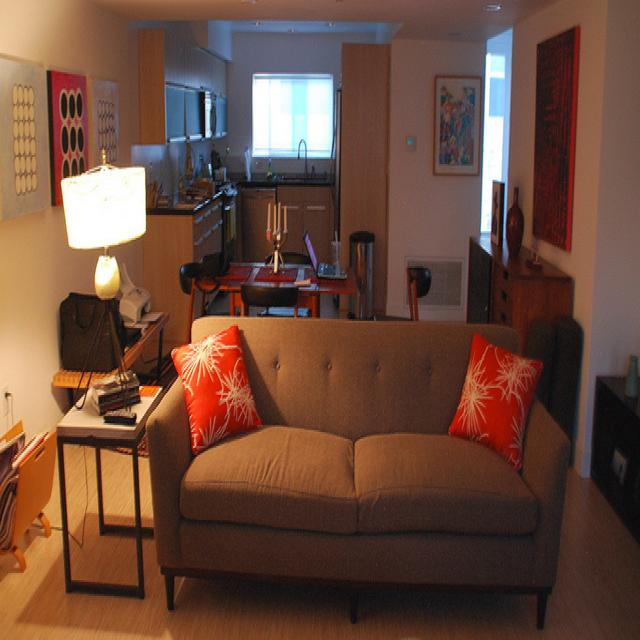chair: (258, 251, 311, 317), (178, 264, 205, 342), (242, 283, 298, 319), (406, 267, 431, 321), (196, 251, 225, 295)
dining table: (198, 259, 357, 295)
